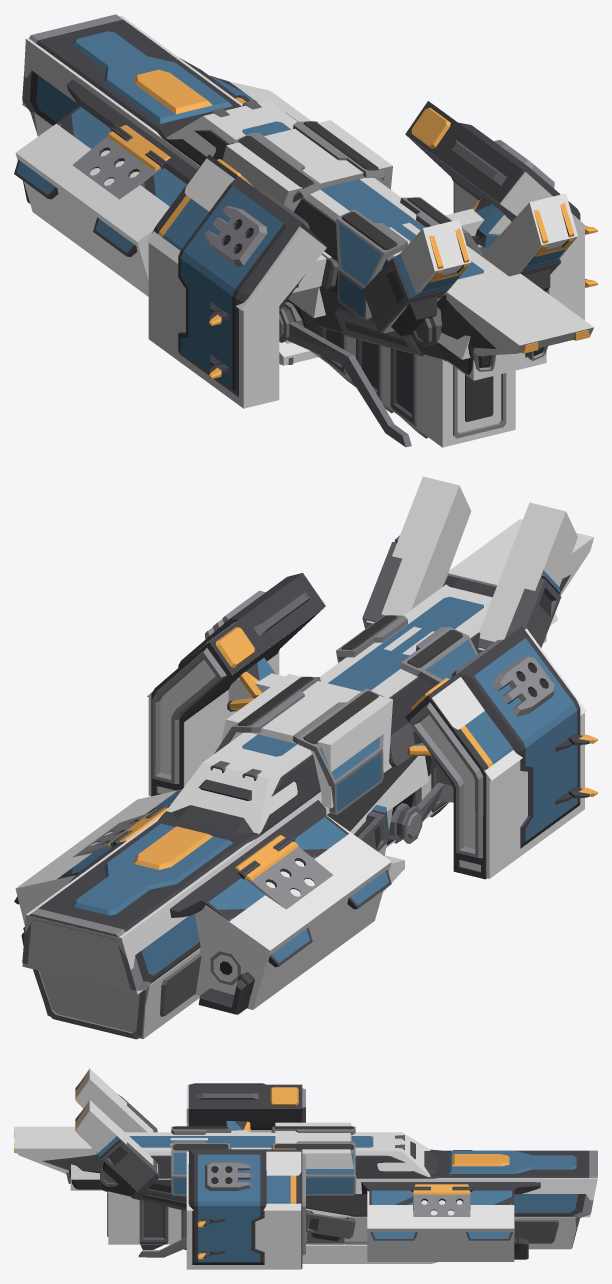
Rendered from SM_Ship_Cruiser_02.fbx.
The picture shows the model from 3 angles, top to bottom: view 1: azimuth 30°, elevation 25°; view 2: azimuth 150°, elevation 25°; view 3: azimuth 270°, elevation 25°; orthographic projection. The views are drawn at different scales.
Visible parts, largest first — view 1: SM_Ship_Cruiser_02_LOD0, SM_Ship_Cruiser_02_ConvexHulls; view 2: SM_Ship_Cruiser_02_LOD0, SM_Ship_Cruiser_02_ConvexHulls; view 3: SM_Ship_Cruiser_02_LOD0, SM_Ship_Cruiser_02_ConvexHulls.
Boxes of the visible parts, x1=… form: SM_Ship_Cruiser_02_LOD0: x1=14, y1=14, x2=597, y2=447; SM_Ship_Cruiser_02_ConvexHulls: x1=15, y1=15, x2=593, y2=447; SM_Ship_Cruiser_02_LOD0: x1=14, y1=535, x2=597, y2=1039; SM_Ship_Cruiser_02_ConvexHulls: x1=15, y1=476, x2=594, y2=1038; SM_Ship_Cruiser_02_LOD0: x1=14, y1=1074, x2=597, y2=1268; SM_Ship_Cruiser_02_ConvexHulls: x1=14, y1=1068, x2=597, y2=1269.
Bounding box in the file's own units: 4984 × 2299 × 1485.
1 material, 1 textured.
